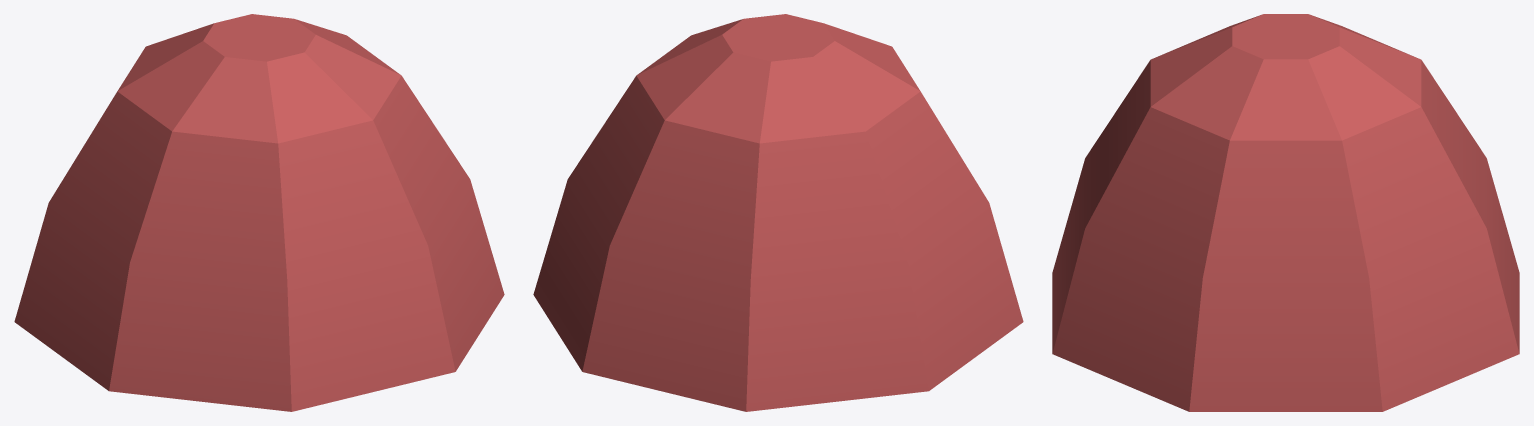
File: Coral_Dome_01.fbx
3 views of the same model, side by side, from view 1: azimuth 30°, elevation 25°; view 2: azimuth 150°, elevation 25°; view 3: azimuth 270°, elevation 25° (orthographic). The views are drawn at different scales.
Visible parts, largest first — view 1: Model; view 2: Model; view 3: Model.
Part boxes in pixels (x1,y1,x2,y2): Model: (14,14,504,411); Model: (533,14,1023,411); Model: (1052,14,1519,411).
Bounding box in the file's own units: 241 × 158 × 241.
